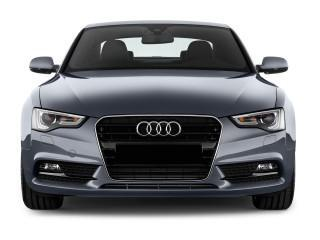Audi: (132, 116, 187, 141)
